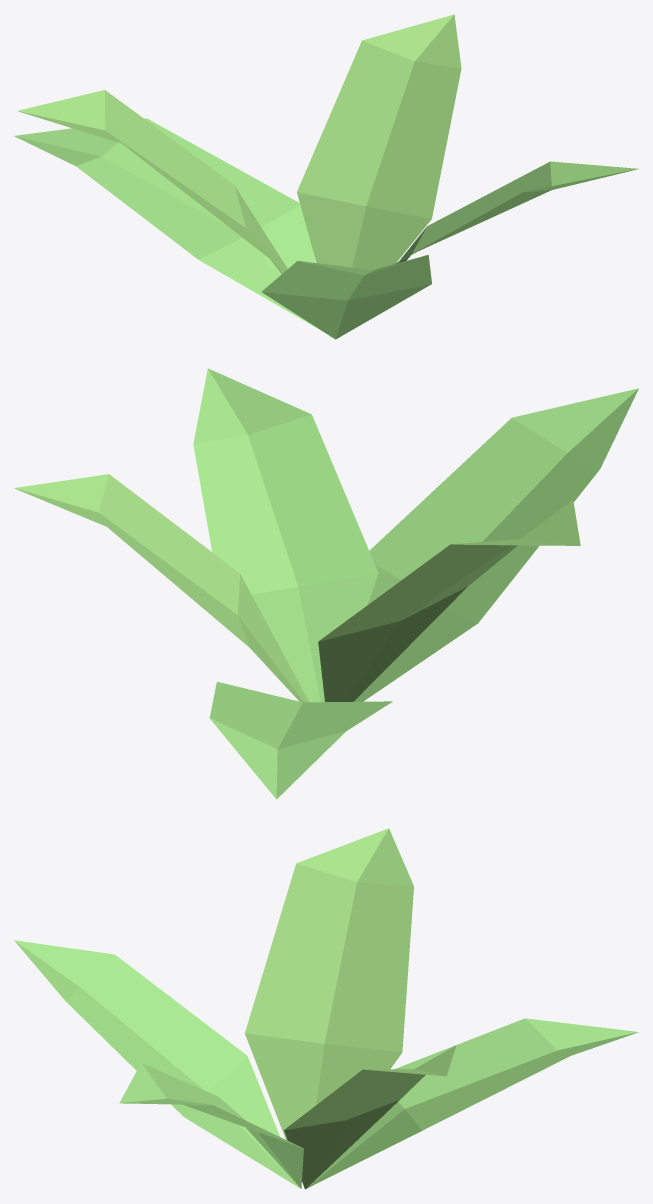
The model's file is Plant_k_TwoS_05.fbx.
The picture shows the model from 3 angles, top to bottom: view 1: azimuth 30°, elevation 25°; view 2: azimuth 150°, elevation 25°; view 3: azimuth 270°, elevation 25°; orthographic projection. The views are drawn at different scales.
Visible parts, largest first — view 1: Plant_k_TwoS_05; view 2: Plant_k_TwoS_05; view 3: Plant_k_TwoS_05.
Boxes of the visible parts, <box> form: Plant_k_TwoS_05: <box>14,14,638,339</box>; Plant_k_TwoS_05: <box>14,368,638,799</box>; Plant_k_TwoS_05: <box>14,828,638,1189</box>.
Size of the model in its own units: 37.71 by 19.7 by 46.64.
